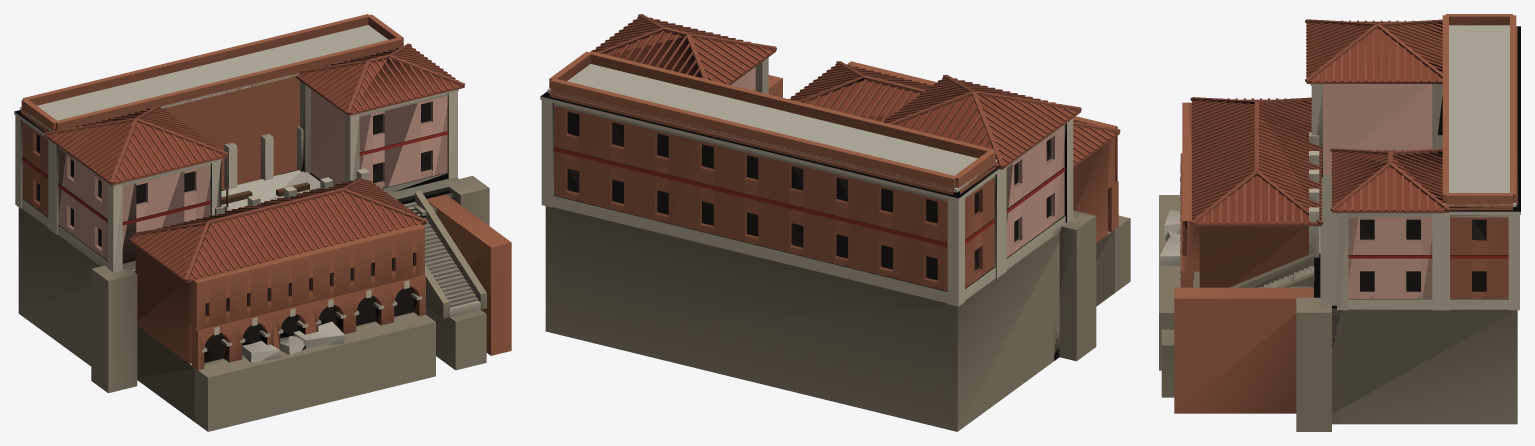
Rendered from rome_pal_block_d.glb.
The picture shows the model from 3 angles, left to right: view 1: azimuth 30°, elevation 25°; view 2: azimuth 150°, elevation 25°; view 3: azimuth 270°, elevation 25°; orthographic projection. The views are drawn at different scales.
Parts seen in each view (by area): view 1: rome_pal_block_d; view 2: rome_pal_block_d; view 3: rome_pal_block_d.
Part boxes in pixels (x1=…): rome_pal_block_d: x1=14, y1=14, x2=511, y2=431; rome_pal_block_d: x1=540, y1=14, x2=1130, y2=431; rome_pal_block_d: x1=1159, y1=14, x2=1520, y2=431.
Size of the model in its own units: 36.8 by 21.24 by 28.47.
